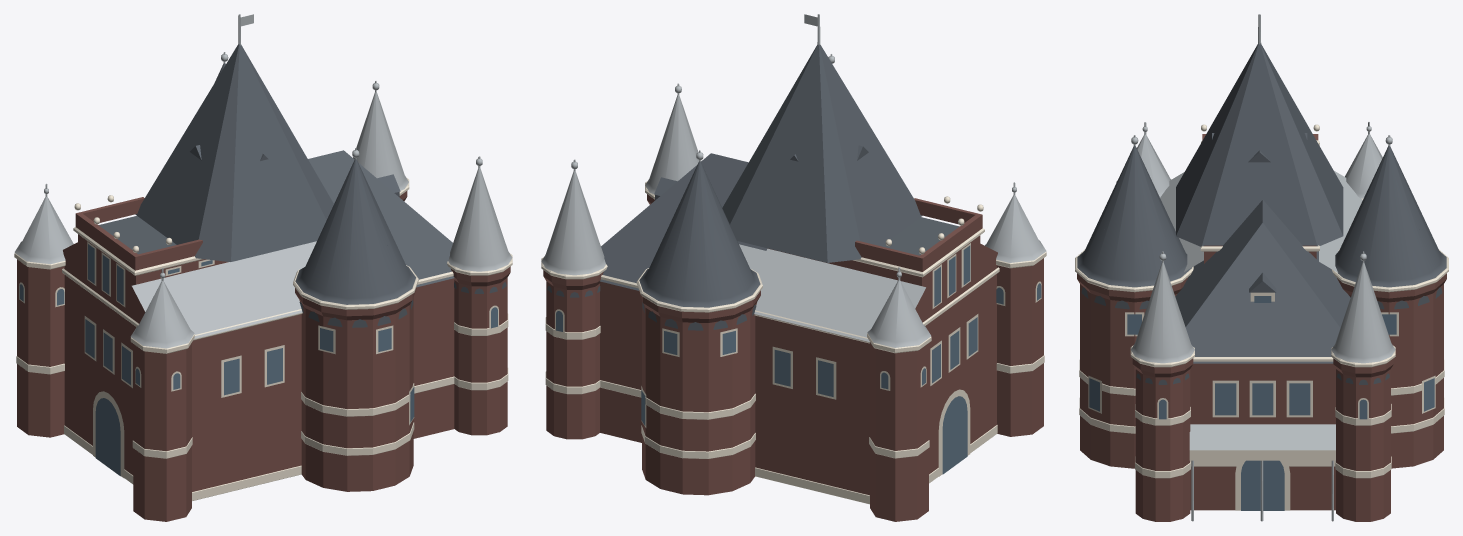
Rendered from amsterdam-waag.glb.
The picture shows the model from 3 angles, left to right: view 1: azimuth 30°, elevation 25°; view 2: azimuth 150°, elevation 25°; view 3: azimuth 270°, elevation 25°; orthographic projection. The views are drawn at different scales.
Parts seen in each view (by area): view 1: De Waag; view 2: De Waag; view 3: De Waag.
Part boxes in pixels (box(x1,y1,x2,y2)): De Waag: box(14, 14, 512, 521); De Waag: box(541, 14, 1046, 521); De Waag: box(1075, 14, 1448, 521).
Size of the model in its own units: 26.5 by 27.85 by 23.2.
